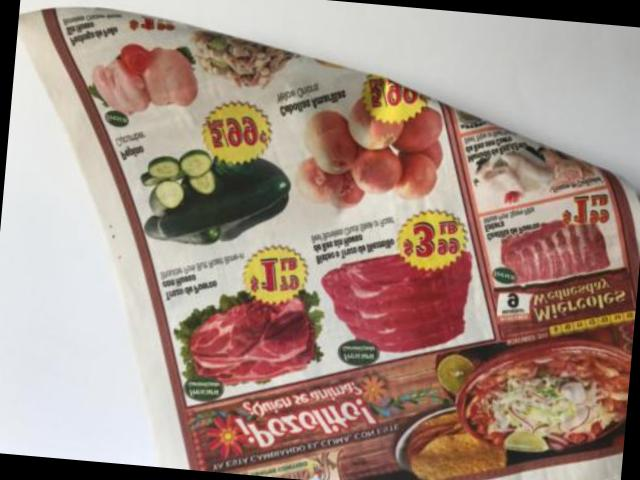cardboard paper: (17, 10, 640, 480)
